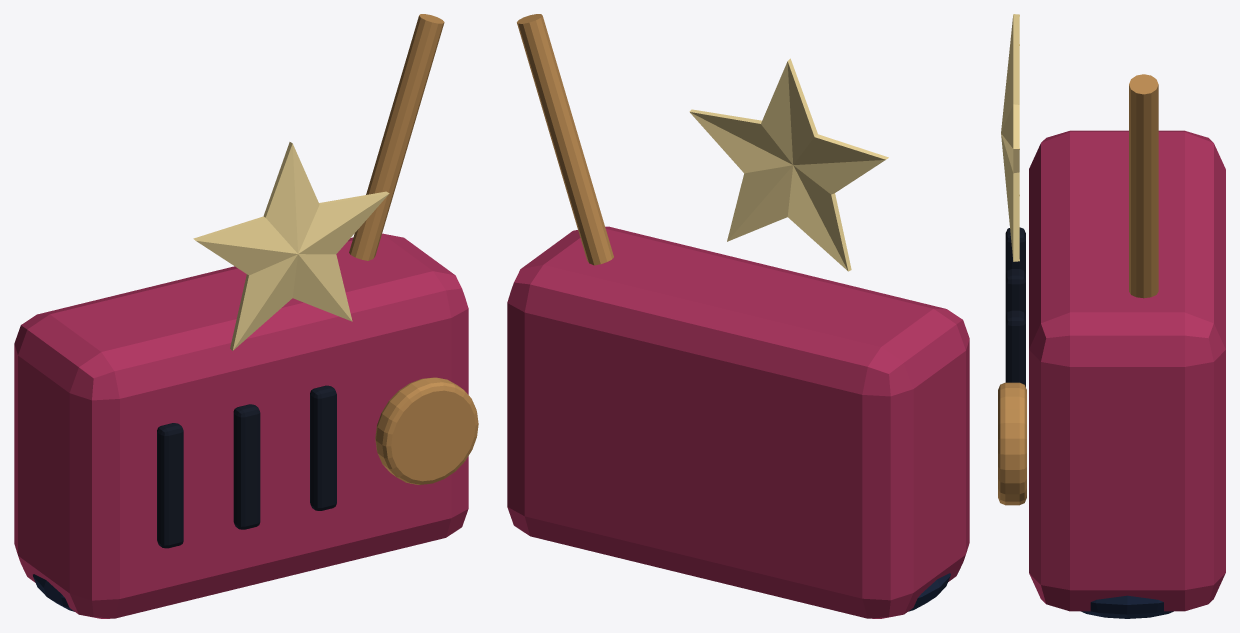
Rendered from Item_fake_jackpot.fbx.
3 views of the same model, side by side, from view 1: azimuth 30°, elevation 25°; view 2: azimuth 150°, elevation 25°; view 3: azimuth 270°, elevation 25° (orthographic). The views are drawn at different scales.
Visible parts, largest first — view 1: Item_fake_jackpot.Mesh; view 2: Item_fake_jackpot.Mesh; view 3: Item_fake_jackpot.Mesh.
Boxes of the visible parts, x1,y1,x2,y2 form: Item_fake_jackpot.Mesh: (14,14,478,618); Item_fake_jackpot.Mesh: (507,14,969,618); Item_fake_jackpot.Mesh: (998,14,1225,618).
Size of the model in its own units: 63.71 by 74.57 by 27.75.
